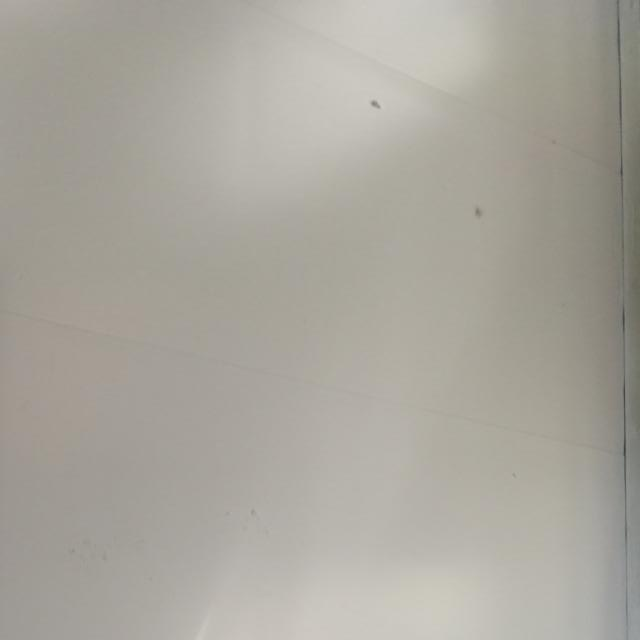fluorescent tube: (0, 217, 14, 640)
